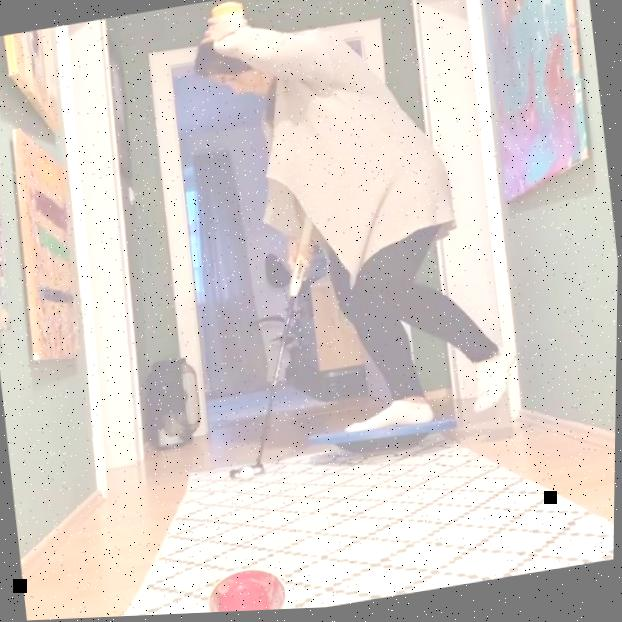ClubHead: (231, 465, 269, 483)
GolfBall: (238, 467, 257, 483)
